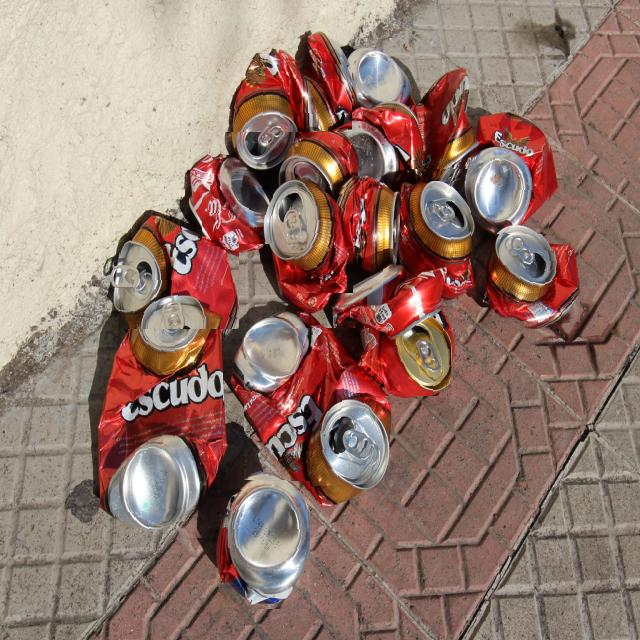Cans: (113, 310, 223, 544), (244, 328, 380, 490), (119, 227, 239, 329), (366, 181, 471, 295), (220, 480, 310, 609), (219, 57, 352, 132), (367, 300, 451, 396), (289, 184, 353, 293), (498, 250, 580, 328), (496, 122, 552, 234), (411, 76, 477, 170), (202, 171, 274, 244)
